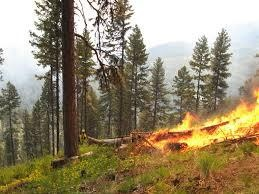fire: (143, 85, 259, 152)
